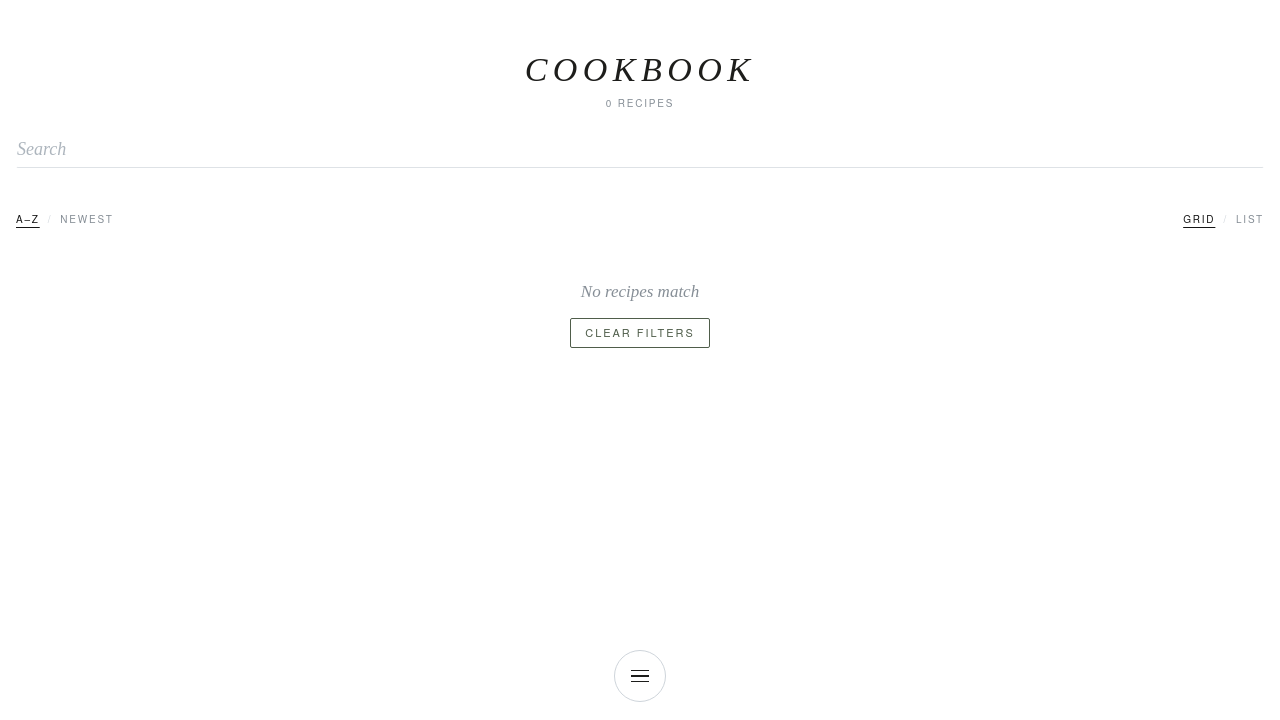
Test: the cookbook's menu lists Paste recipe next to New recipe, and it opens the paste page
Click the button named "Menu".
click(640, 676)  # box [614,650,666,702]
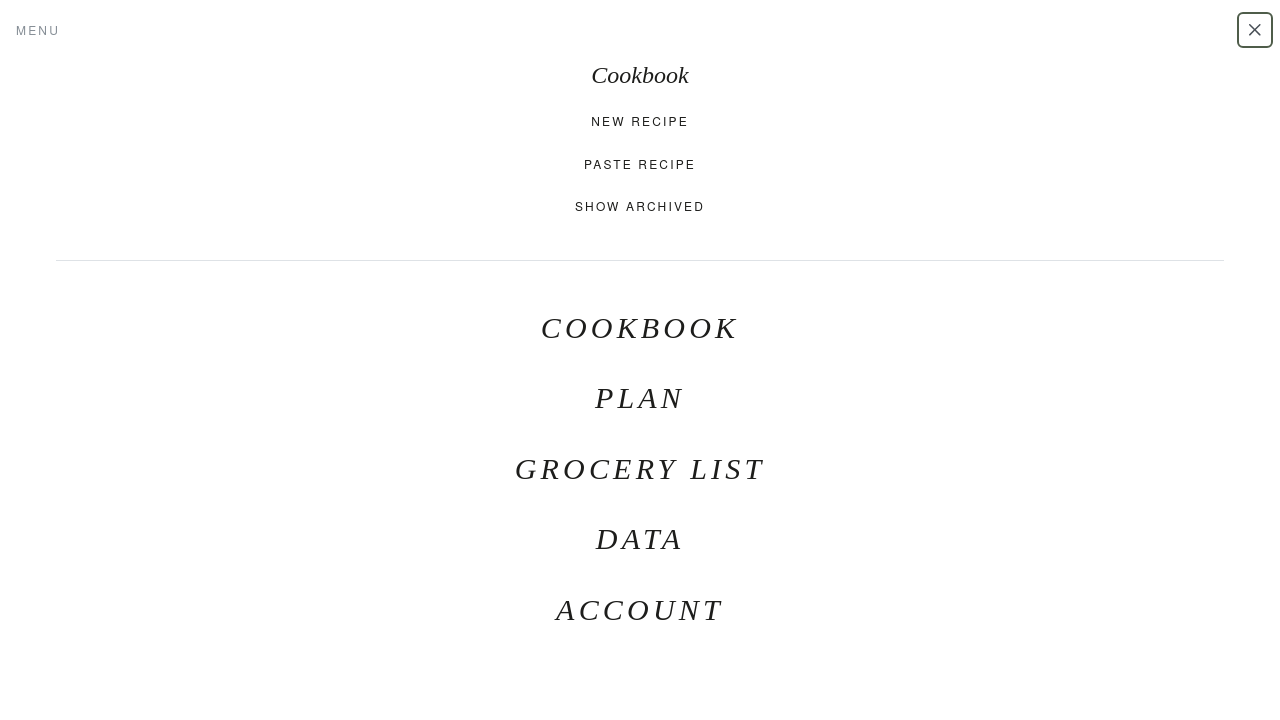
Click the button "Paste recipe".
click(640, 164)  # box [16,143,1264,185]
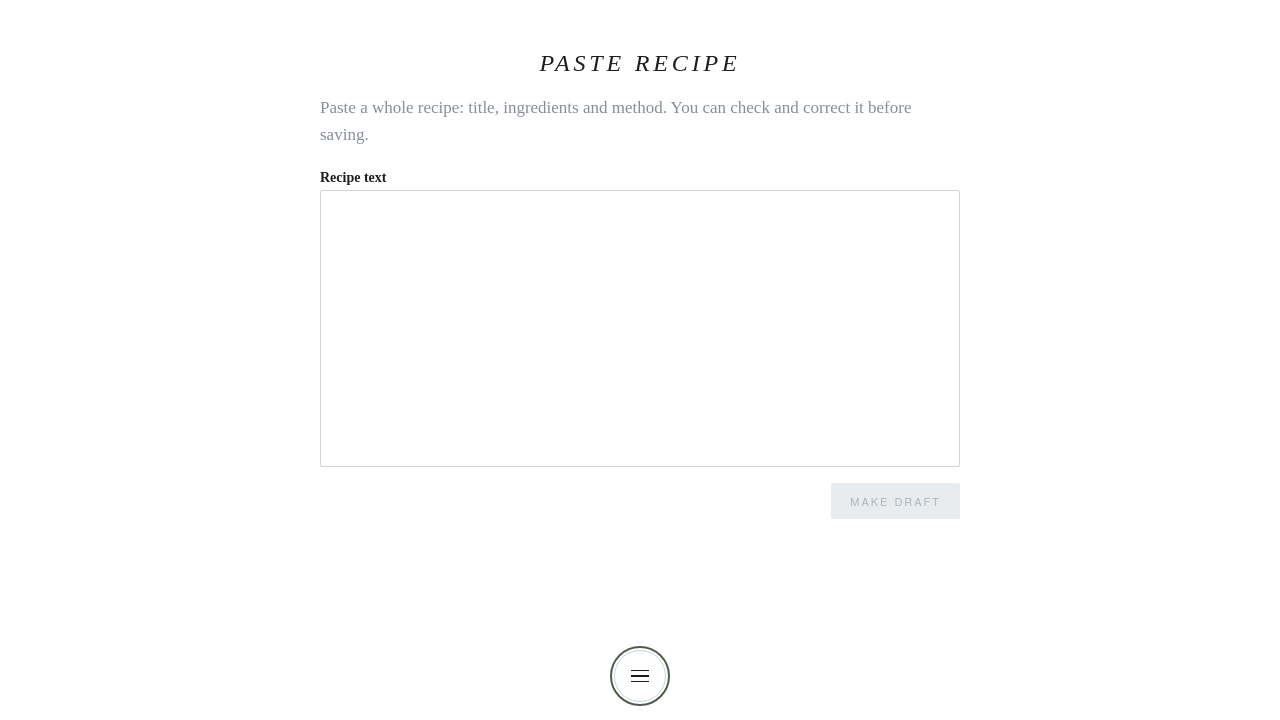
expect the heading "Paste recipe" is shown: met, box [540,50,740,76]
